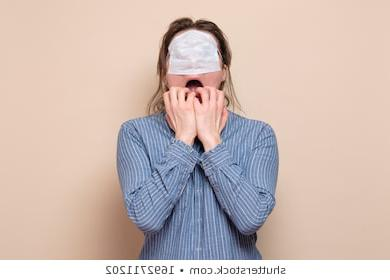mask_weared_incorrect: (167, 42, 221, 106)
